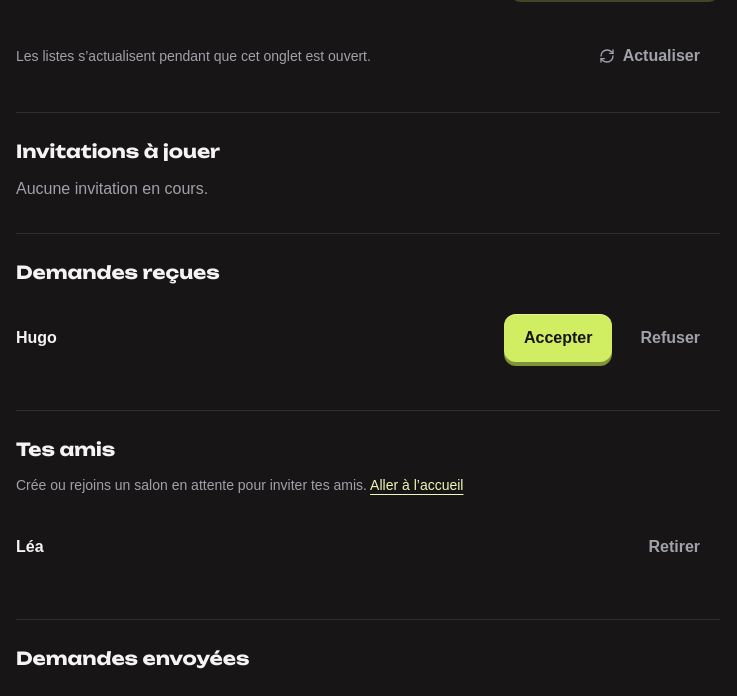
Test: Friends › accepts received requests and cancels sent requests with their request IDs
This screenshot has width=737, height=696.
(page scrolled)
Click the button with aria-label "Accepter la demande de Hugo". click: x=558, y=338
box: [504, 314, 612, 362]
(page scrolled)
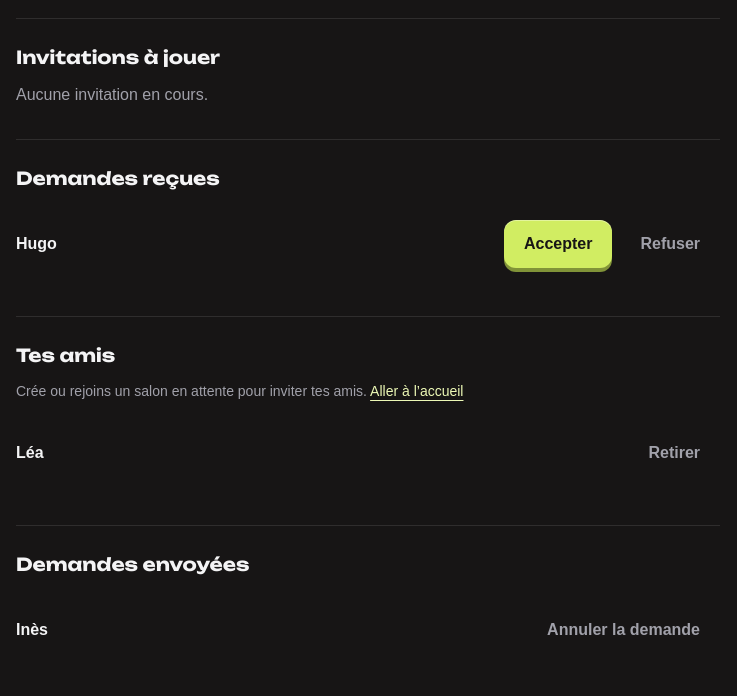
Click the button with aria-label "Annuler la demande à Inès". click: x=624, y=630
box: [527, 606, 720, 654]
(page scrolled)
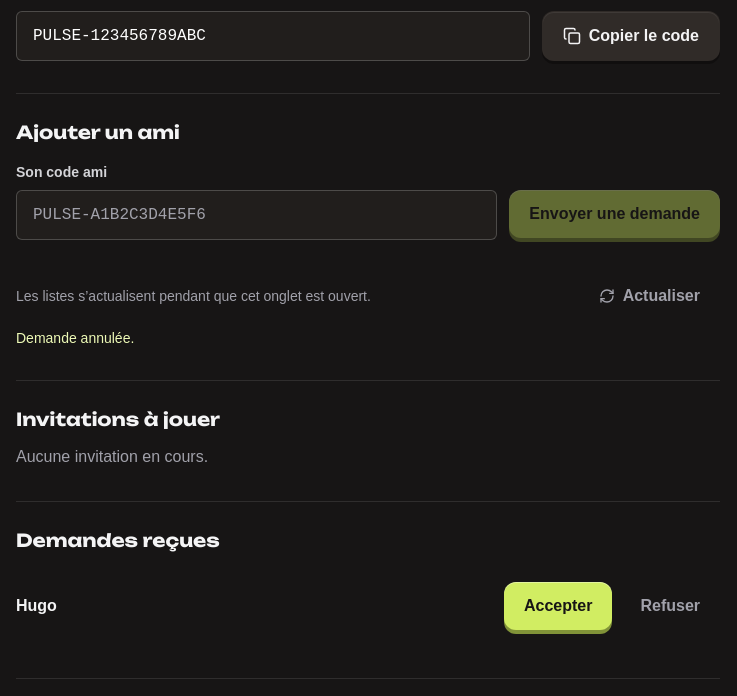
Expected: the text "Demande annulée." is shown, [16, 330, 134, 346]
